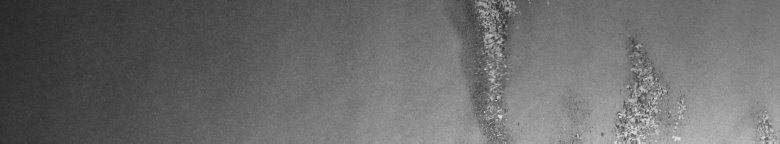hc: (601, 37, 689, 136)
